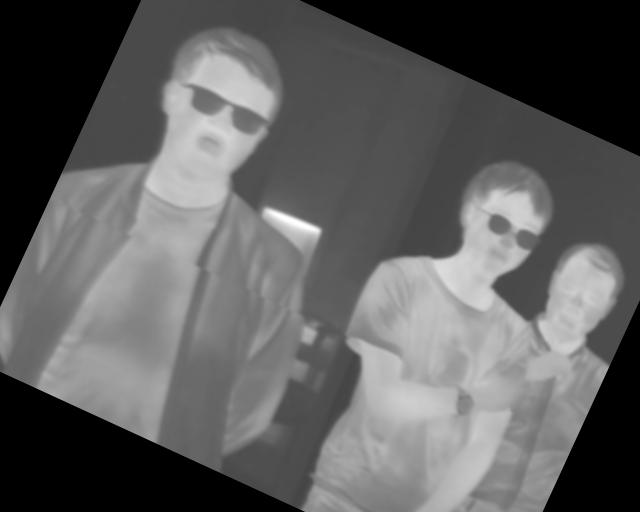face: (132, 7, 304, 197), (435, 144, 570, 292), (526, 227, 638, 357)
